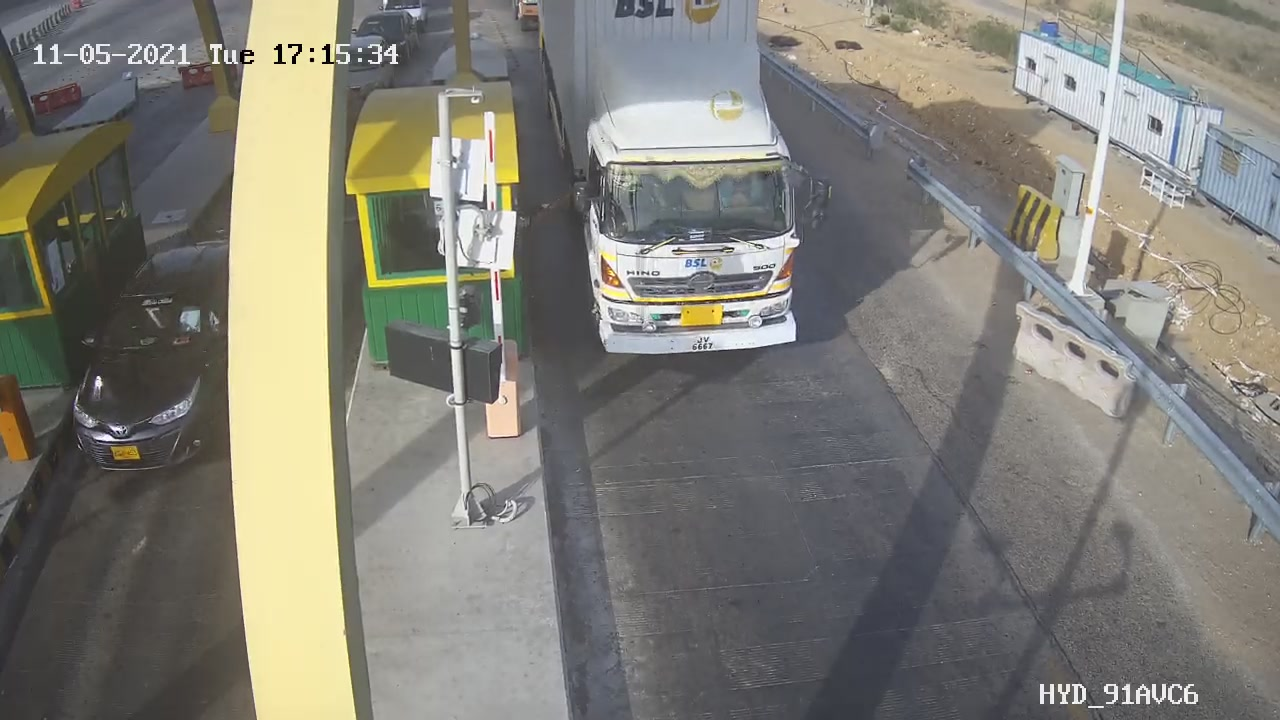F6: (522, 1, 853, 376)
